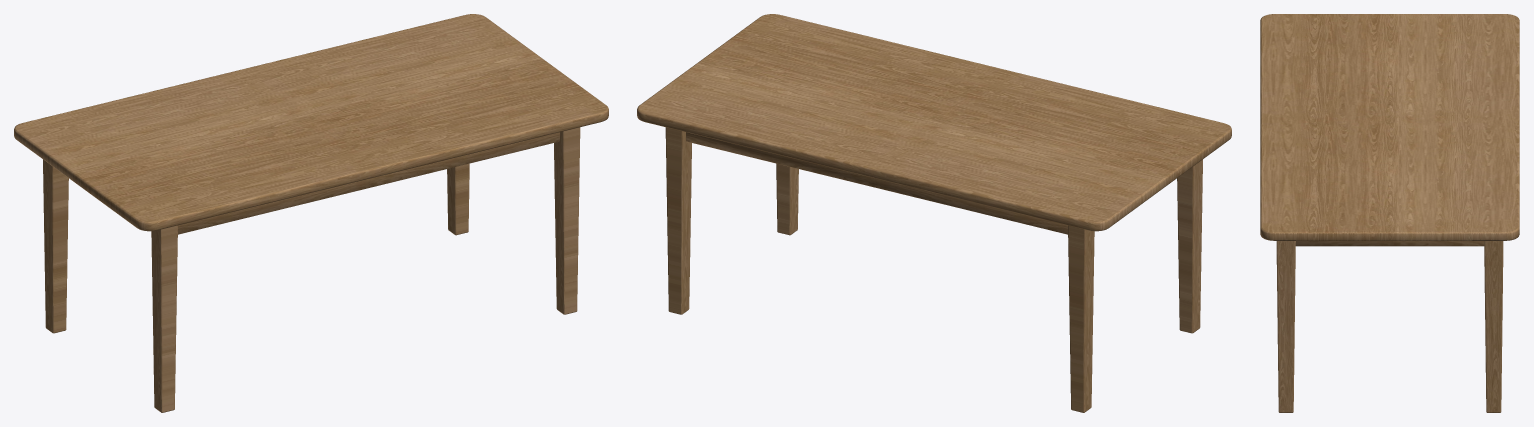
The model's file is dining_table.glb.
3 views of the same model, side by side, from view 1: azimuth 30°, elevation 25°; view 2: azimuth 150°, elevation 25°; view 3: azimuth 270°, elevation 25° (orthographic). The views are drawn at different scales.
Visible parts, largest first — view 1: dining_table; view 2: dining_table; view 3: dining_table.
Part boxes in pixels (x1,y1,x2,y2): dining_table: (14, 14, 608, 412); dining_table: (637, 14, 1231, 412); dining_table: (1260, 14, 1519, 412).
Bounding box in the file's own units: 1.8 × 0.74 × 0.9001.
1 material, 1 textured.
